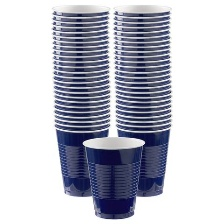glass: (41, 1, 113, 200), (111, 0, 172, 201), (80, 133, 147, 222)
